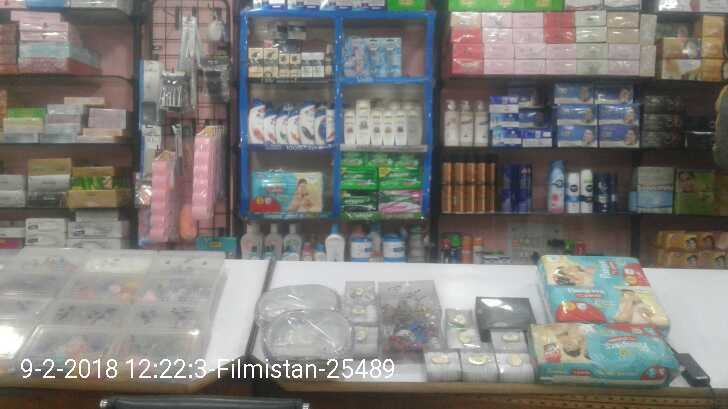ambipureVesus: (548, 159, 567, 212), (581, 168, 593, 213), (568, 172, 581, 213)
venus: (380, 37, 402, 78), (345, 37, 364, 77), (364, 37, 380, 78)
